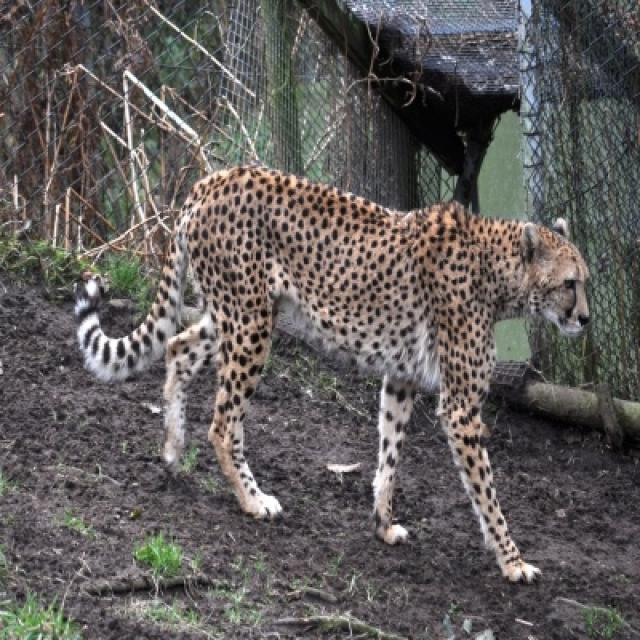Cheetah: (146, 166, 590, 586)
